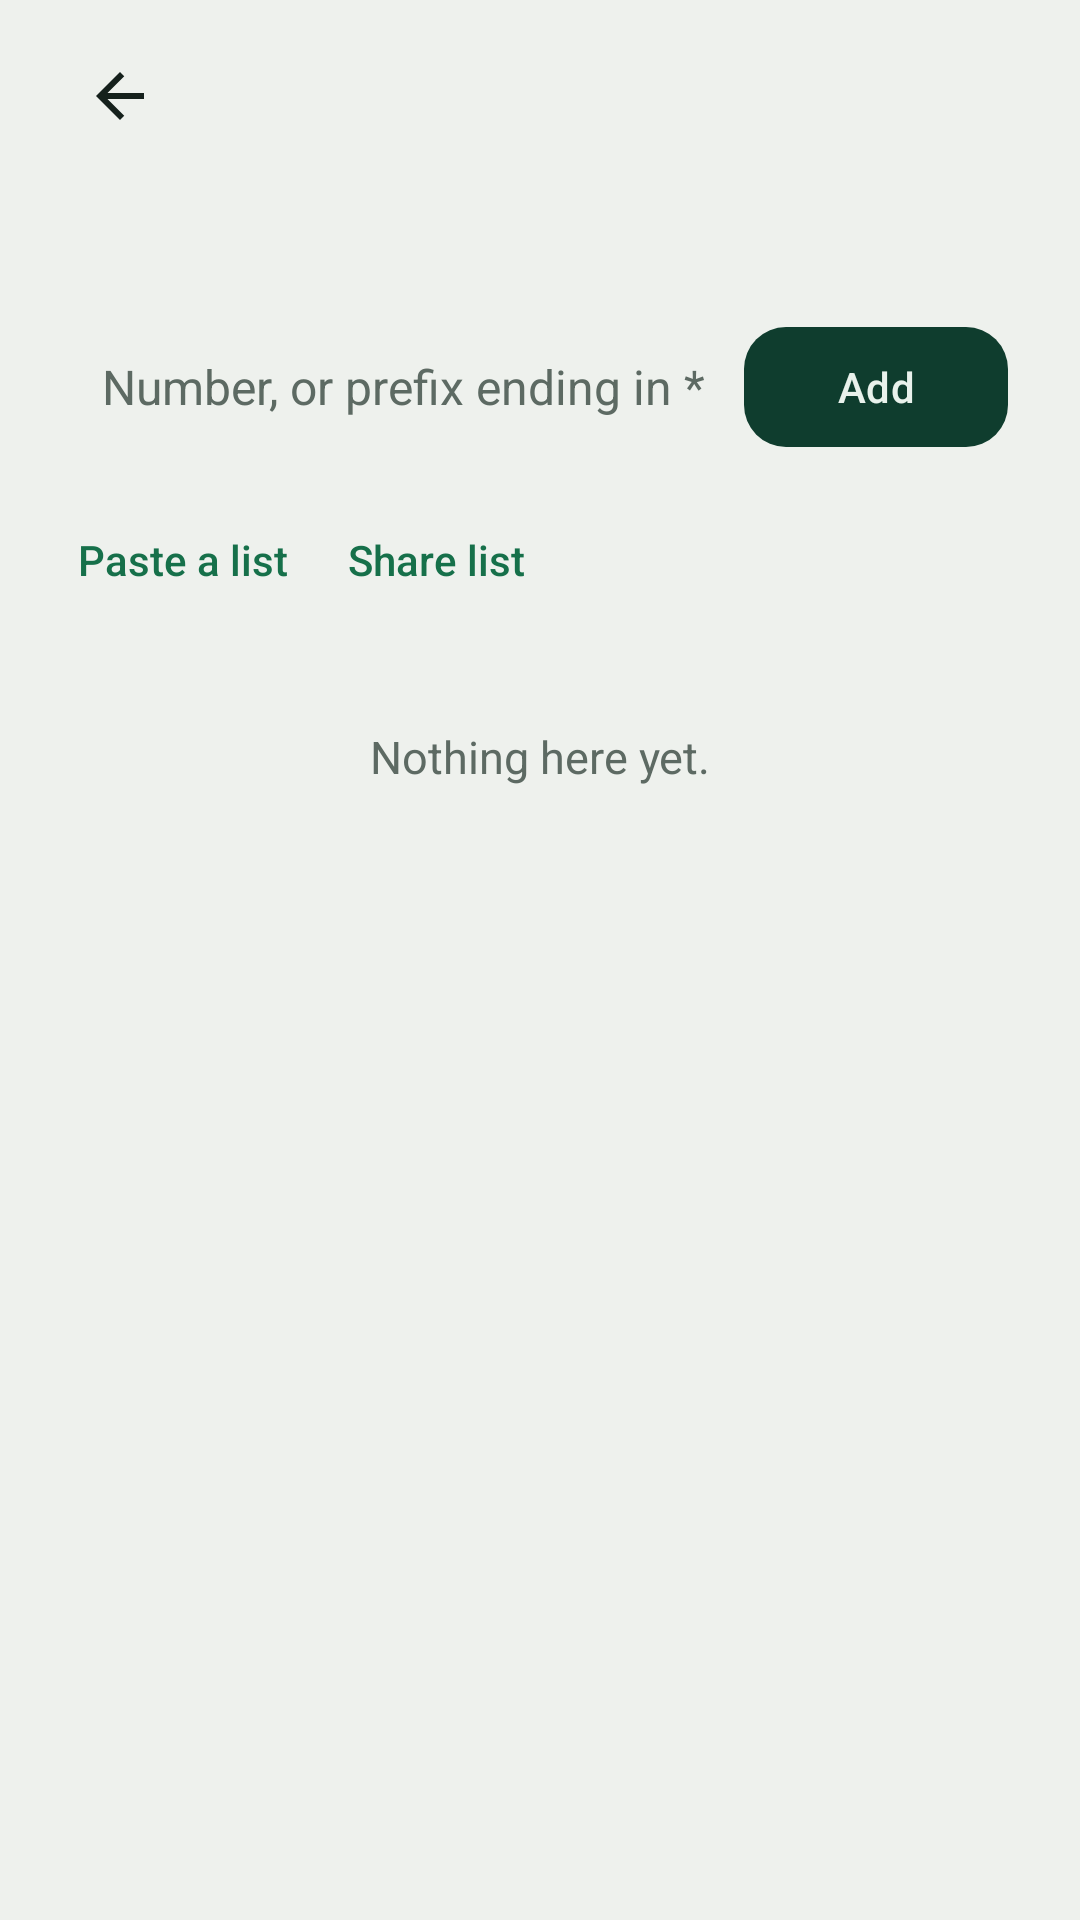

Icon click points for this 1080*1920 phone screenshot, format (x,y):
Back: (120,96)
